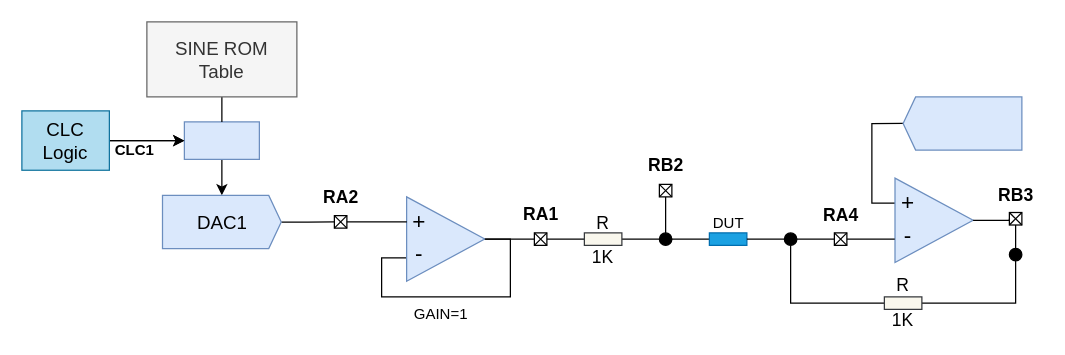
Image size: 1065x355. Some labels were removed from this diagram. Here are the shapes that lost their labels. From the top down, the box of each, then its label:
(183, 121, 259, 159): DMA2
(902, 96, 1022, 150): DAC3
